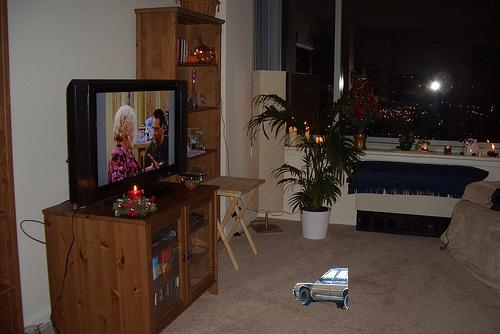tampered: (293, 269, 348, 309)
